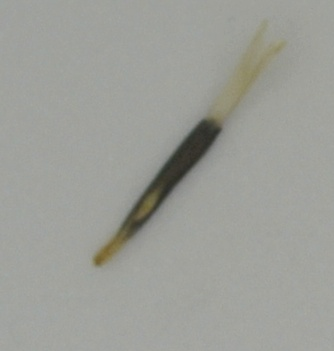เมล็ดงอกแตก: (90, 12, 290, 271)
